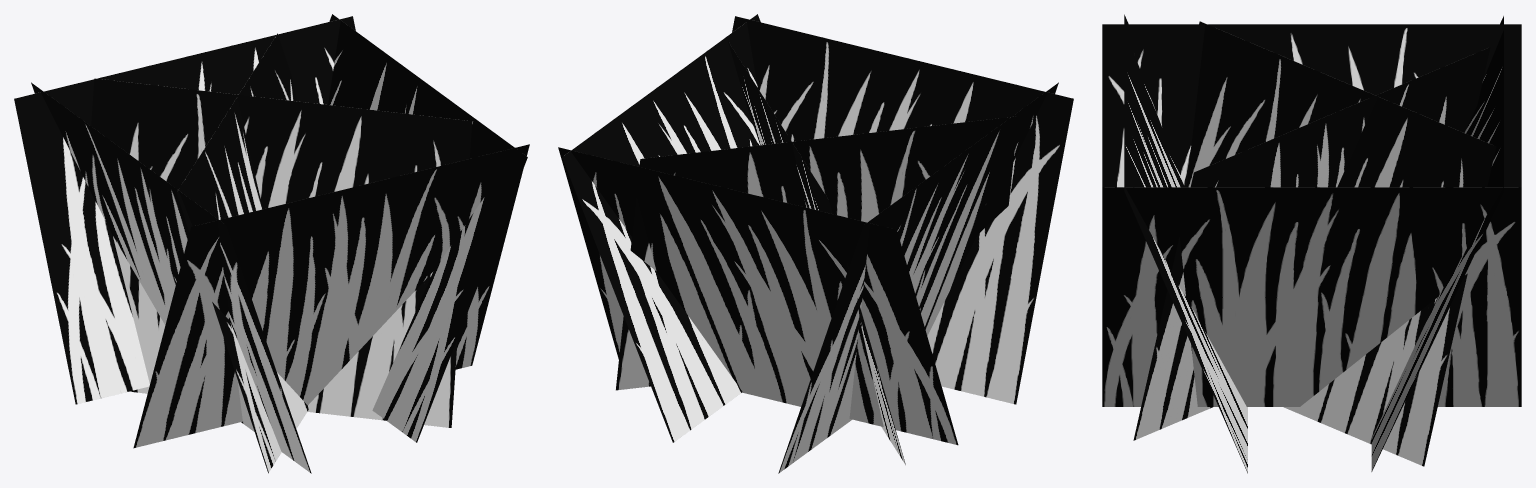
Rendered from grass.fbx.
The picture shows the model from 3 angles, left to right: view 1: azimuth 30°, elevation 25°; view 2: azimuth 150°, elevation 25°; view 3: azimuth 270°, elevation 25°; orthographic projection. The views are drawn at different scales.
Parts seen in each view (by area): view 1: Grass; view 2: Grass; view 3: Grass.
Boxes of the visible parts, <box> form: Grass: <box>14,14,529,473</box>; Grass: <box>558,14,1073,473</box>; Grass: <box>1102,14,1521,473</box>.
Size of the model in its own units: 50 by 38.68 by 50.
1 material, 1 textured.
